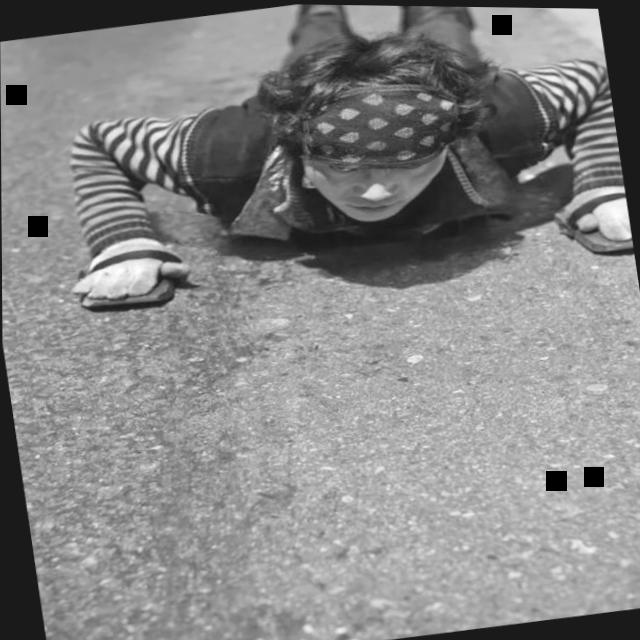Fall-Detected: (29, 0, 635, 333)
